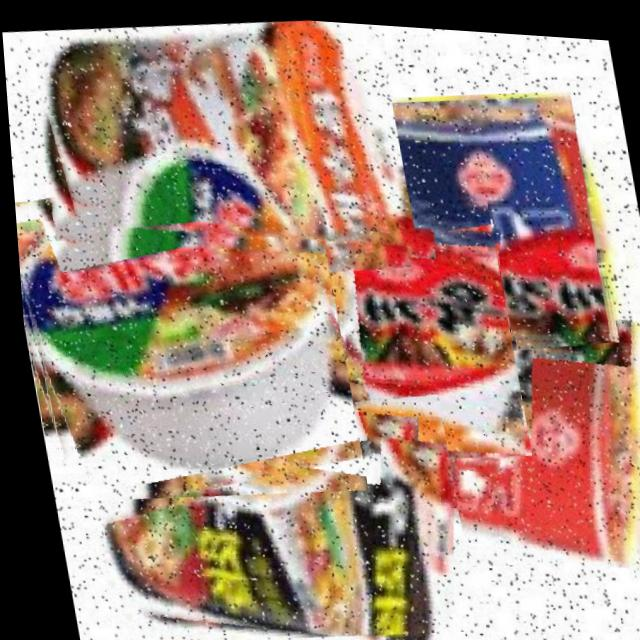Miscellaneous: (8, 141, 361, 517), (17, 1, 415, 280), (64, 369, 472, 640), (342, 264, 640, 578), (228, 179, 525, 475), (330, 75, 614, 358)
